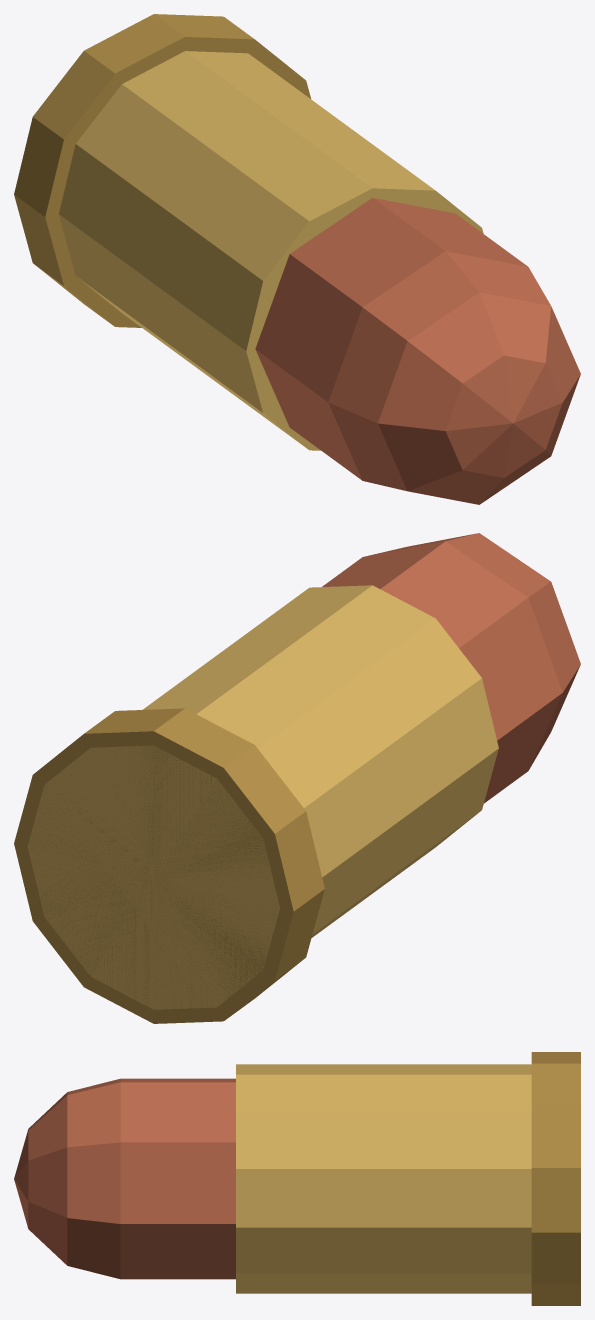
Rendered from bullet_pistol.obj.
3 views of the same model, one above another, from view 1: azimuth 30°, elevation 25°; view 2: azimuth 150°, elevation 25°; view 3: azimuth 270°, elevation 25° (orthographic). The views are drawn at different scales.
Parts seen in each view (by area): view 1: bullet_pistol; view 2: bullet_pistol; view 3: bullet_pistol.
Part boxes in pixels (bbox=[...]): bullet_pistol: bbox=[14, 14, 580, 504]; bullet_pistol: bbox=[14, 533, 580, 1023]; bullet_pistol: bbox=[14, 1052, 580, 1305].
Bounding box in the file's own units: 0.31 × 0.31 × 0.69.
Materials: 1 (1 with a texture image).
